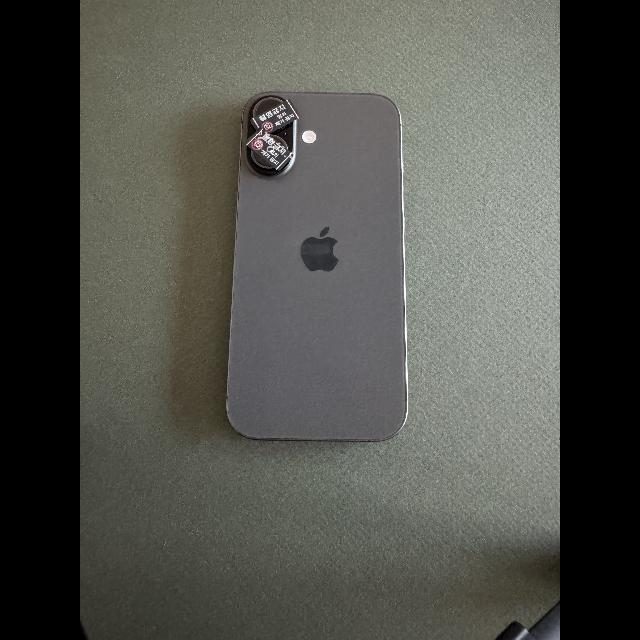lens: (256, 100, 282, 117), (252, 150, 273, 168)
phone: (226, 88, 408, 442)
sticker: (245, 127, 293, 171), (250, 100, 300, 135)
